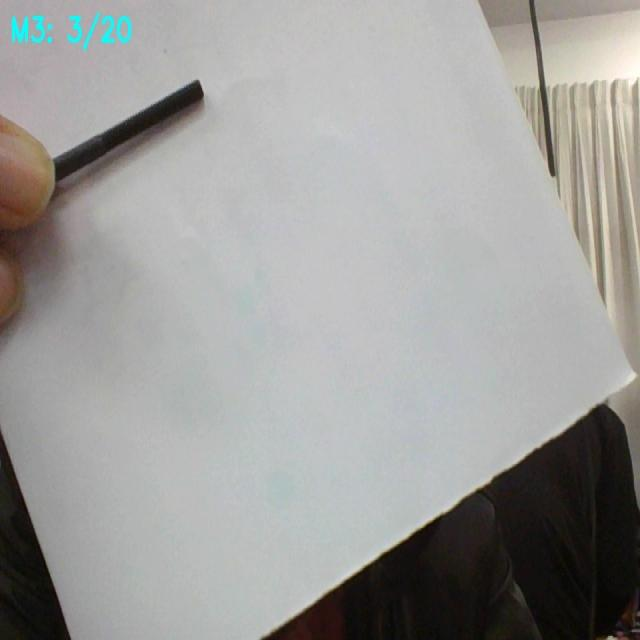vastago: (54, 80, 203, 184)
